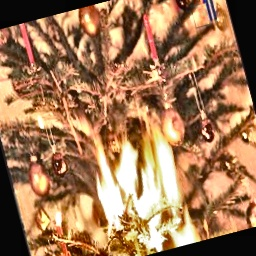fire: (85, 126, 199, 256)
